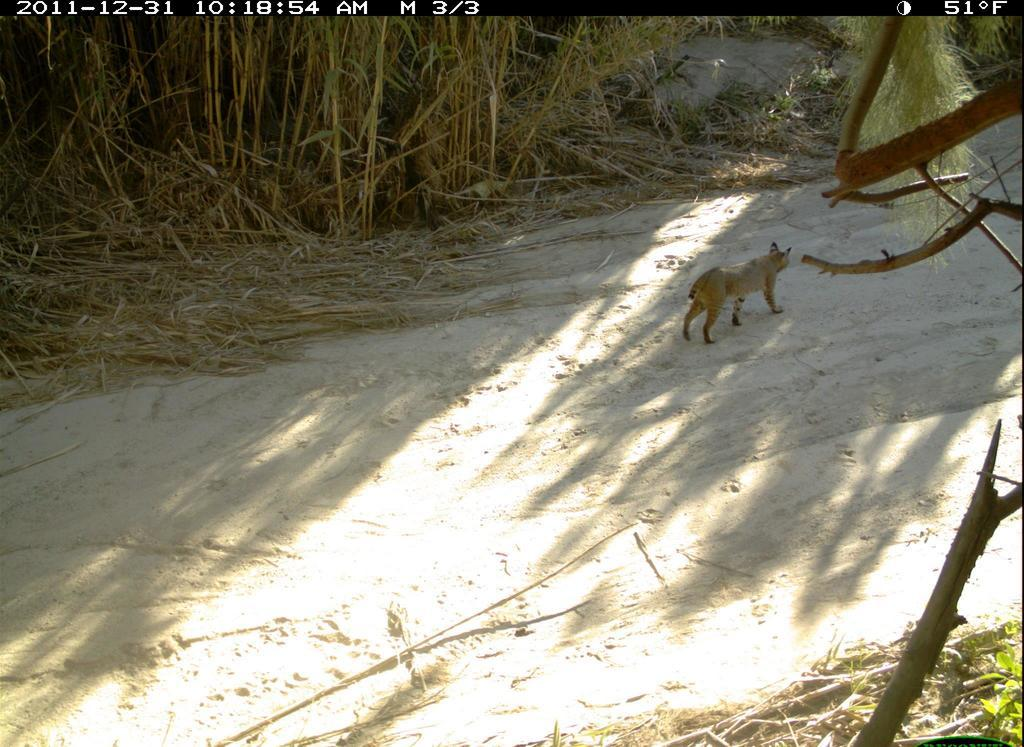bobcat: (681, 245, 789, 345)
